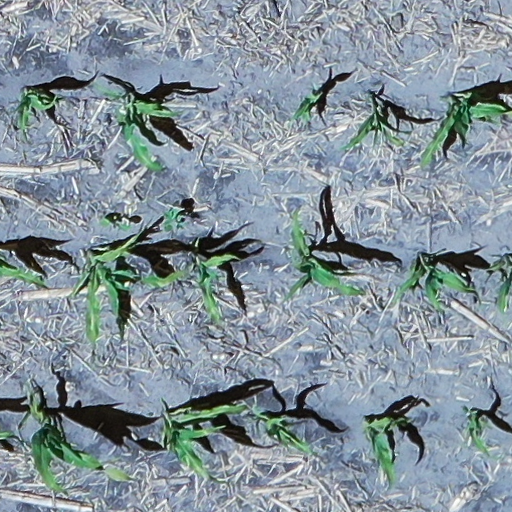planta: (28, 390, 142, 499), (70, 222, 146, 344), (95, 83, 179, 172), (162, 403, 248, 489), (137, 254, 240, 323), (285, 212, 365, 300), (421, 92, 507, 166), (393, 261, 475, 311), (365, 416, 410, 492), (253, 406, 316, 455), (342, 100, 403, 149), (18, 90, 58, 144), (466, 410, 492, 458)
